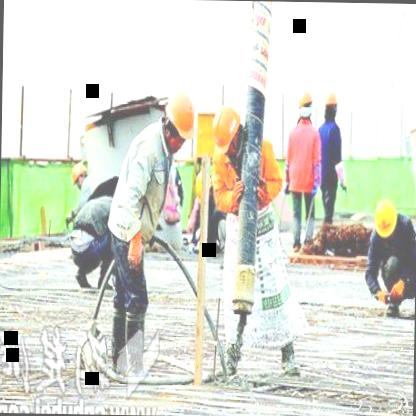helmet: (159, 82, 198, 157), (210, 100, 244, 162), (372, 196, 399, 240), (298, 84, 316, 124), (322, 86, 340, 124), (69, 160, 88, 193)
